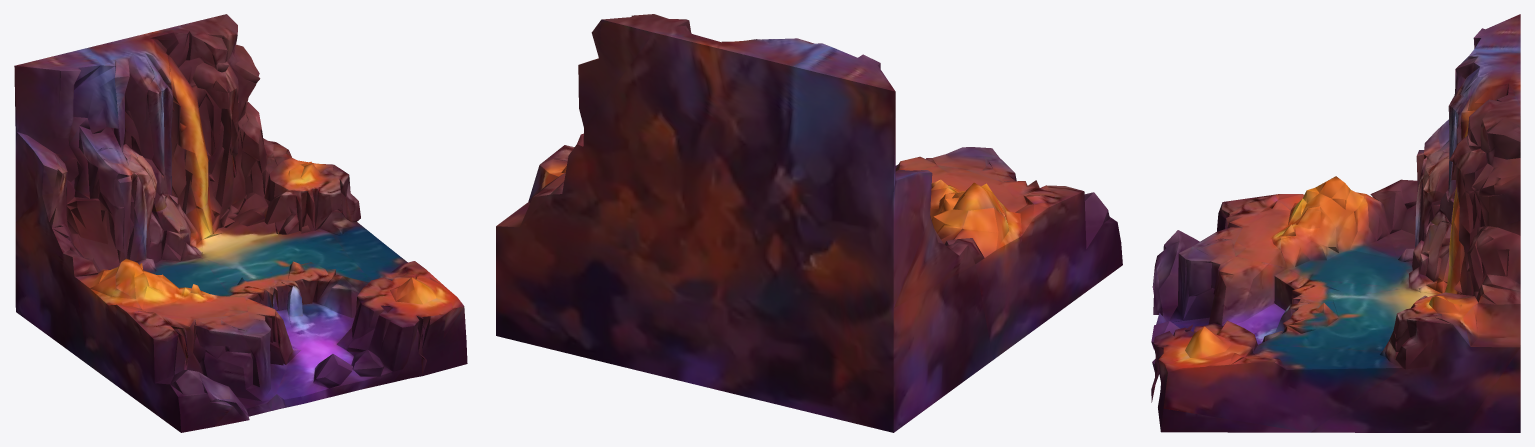
The model's file is m2LavafallRock.glb.
The picture shows the model from 3 angles, left to right: view 1: azimuth 30°, elevation 25°; view 2: azimuth 150°, elevation 25°; view 3: azimuth 270°, elevation 25°; orthographic projection. The views are drawn at different scales.
Visible parts, largest first — view 1: model; view 2: model; view 3: model.
Part boxes in pixels (x1,y1,x2,y2): model: [14, 14, 467, 432]; model: [496, 14, 1122, 432]; model: [1151, 14, 1520, 432].
Bounding box in the file's own units: 1.89 × 1.51 × 1.89.
1 material, 1 textured.
